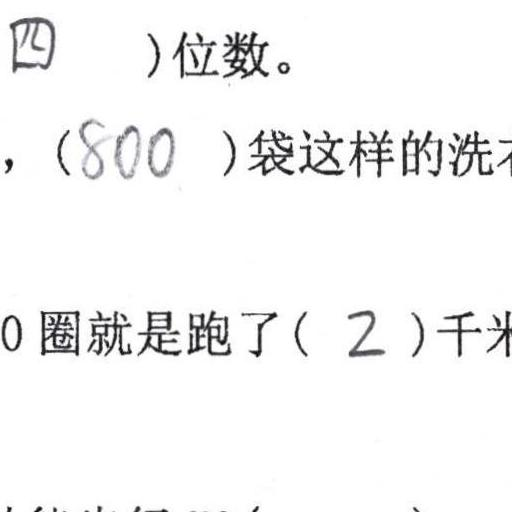ans: (71, 110, 176, 184), (0, 9, 57, 74), (343, 308, 386, 360)
